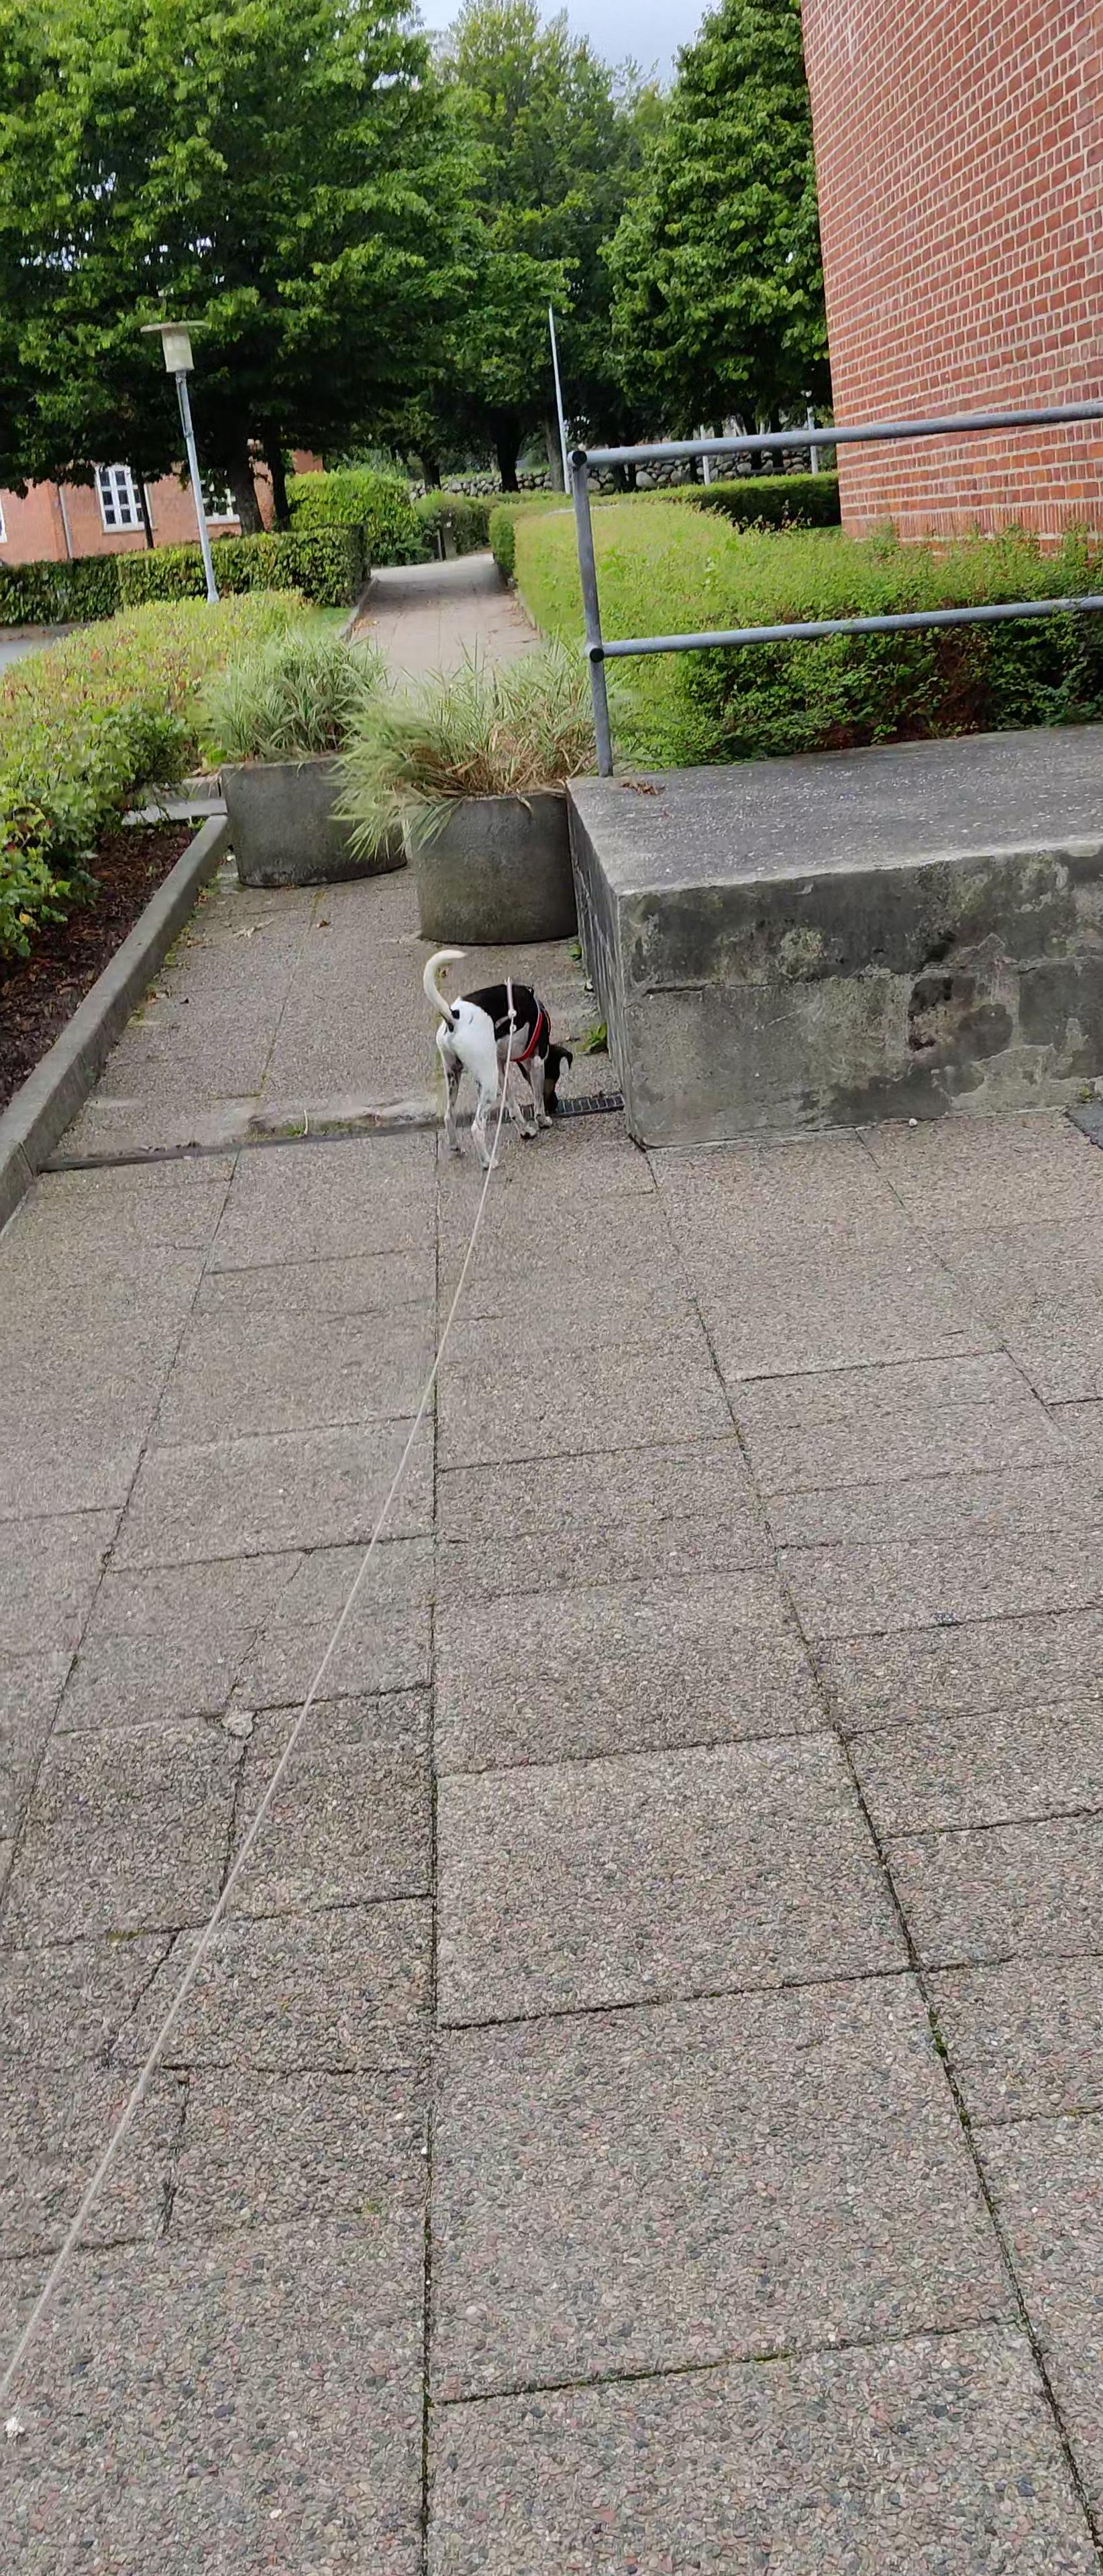Dog: (408, 933, 580, 1180)
